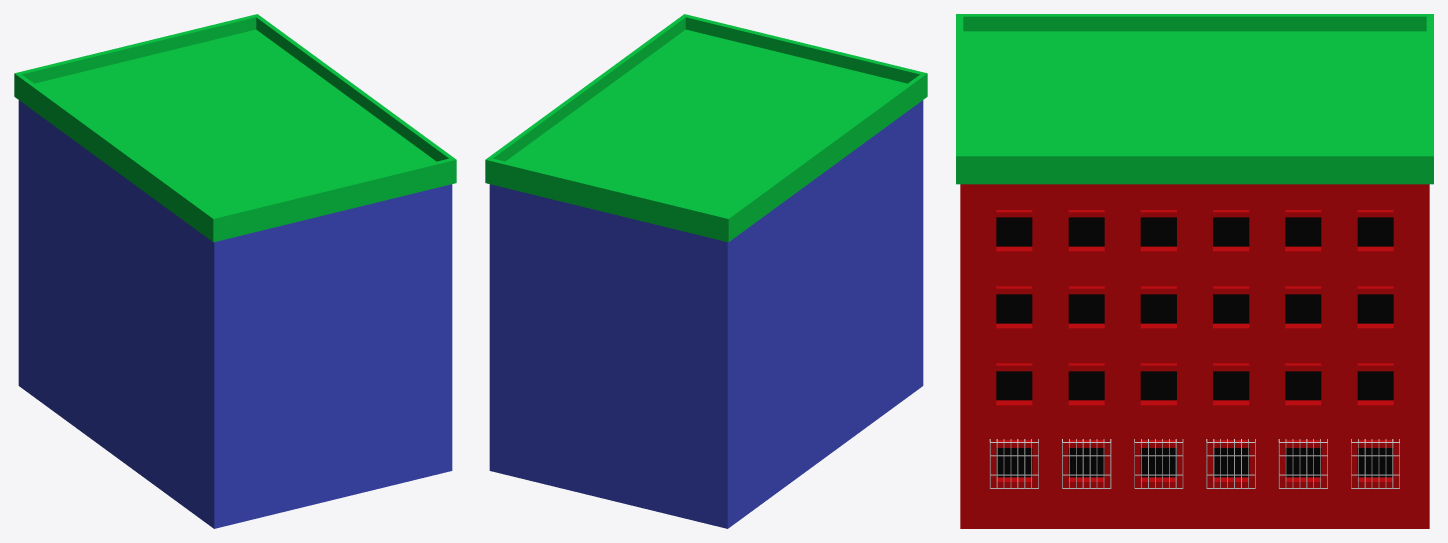
The model's file is Apartment1.fbx.
The picture shows the model from 3 angles, left to right: view 1: azimuth 30°, elevation 25°; view 2: azimuth 150°, elevation 25°; view 3: azimuth 270°, elevation 25°; orthographic projection. The views are drawn at different scales.
Visible parts, largest first — view 1: Cube; view 2: Cube; view 3: Cube, Cube.006, Cube.005, Cube.002, Cube.001, Cube.004, Cube.003.
Boxes of the visible parts, bbox=[...] form: Cube: bbox=[14, 14, 456, 528]; Cube: bbox=[485, 14, 927, 528]; Cube: bbox=[956, 14, 1433, 528]; Cube.006: bbox=[989, 439, 1038, 488]; Cube.005: bbox=[1062, 439, 1111, 488]; Cube.002: bbox=[1278, 439, 1327, 488]; Cube.001: bbox=[1351, 439, 1399, 488]; Cube.004: bbox=[1134, 439, 1183, 488]; Cube.003: bbox=[1206, 439, 1255, 488].
Size of the model in its own units: 584 by 706 by 817.
